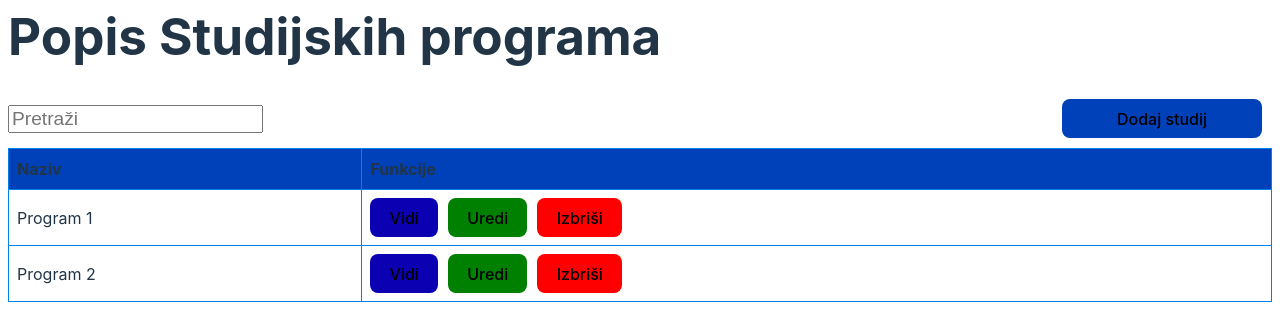
Test case: StudijskiProgramiAdministrator › filtrira studijski programi na temelju pojma za pretraživanje
Type "Program 1" into the field with placeholder "Pretraži" at point(136, 118), box [8, 104, 263, 132]
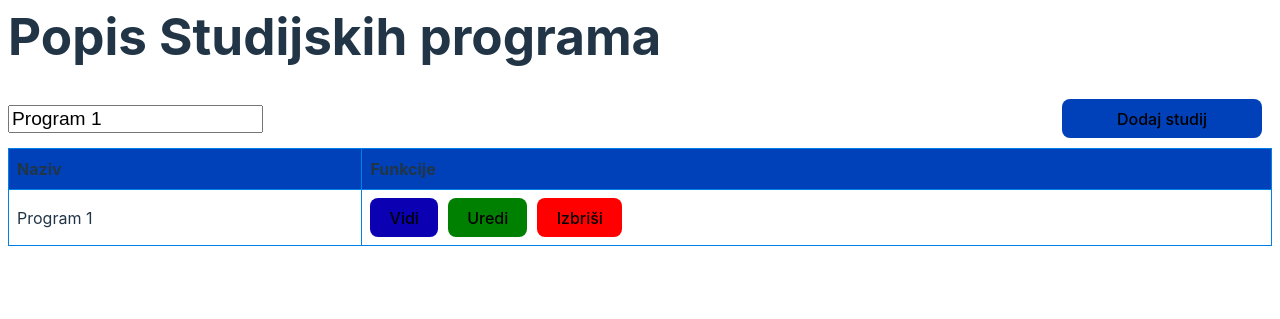
Expected: the text "Program 1" is shown, [8, 190, 362, 246]
Expected: the text "Program 2" is gone
